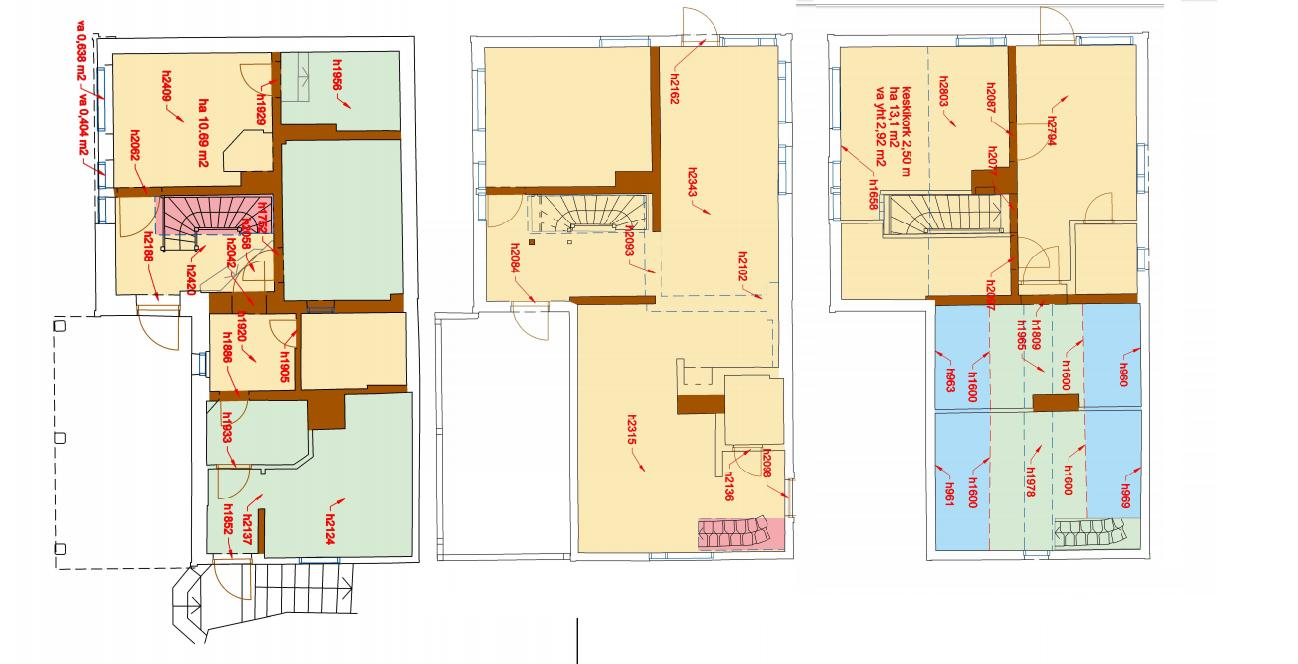door: (133, 292, 184, 354), (115, 187, 167, 241), (209, 548, 257, 604), (504, 299, 554, 346), (482, 187, 527, 234), (1022, 242, 1066, 289), (211, 461, 257, 504), (1038, 4, 1080, 48), (239, 59, 280, 101), (682, 3, 716, 52), (1013, 234, 1055, 272), (1078, 190, 1120, 228), (728, 443, 767, 482), (219, 391, 253, 429), (266, 317, 305, 349)
perimeter: (469, 36, 794, 559), (828, 36, 1151, 560), (98, 40, 419, 564)
stairs: (255, 565, 354, 616), (886, 192, 1006, 234), (533, 195, 649, 235), (158, 197, 273, 235)
window: (92, 62, 117, 138), (643, 548, 721, 568), (773, 142, 798, 199), (1077, 28, 1137, 51), (825, 159, 845, 228), (469, 66, 488, 137), (953, 31, 1012, 53), (718, 29, 779, 50), (1131, 140, 1152, 199), (471, 159, 490, 223), (826, 65, 843, 133), (595, 34, 655, 53), (91, 152, 118, 193), (781, 473, 799, 523), (95, 195, 119, 228), (188, 350, 213, 381), (1019, 546, 1054, 567), (775, 57, 796, 84), (1136, 244, 1153, 276)
